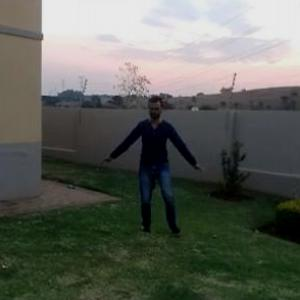land: (107, 87, 211, 242)
